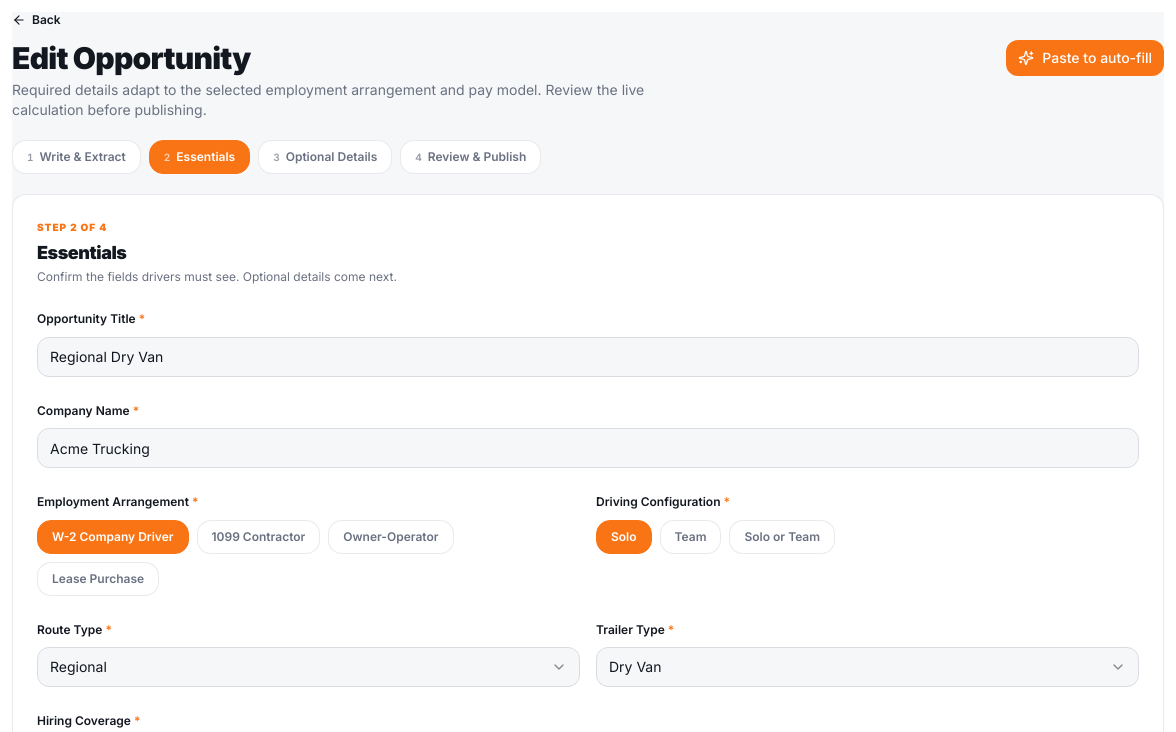
Test: CF-1C-B 11) review preview shows structured criteria only when set › 11c) renders only the declared subset
Click the tab "4Review & Publish": (471, 157) left=400, top=140, right=541, bottom=174
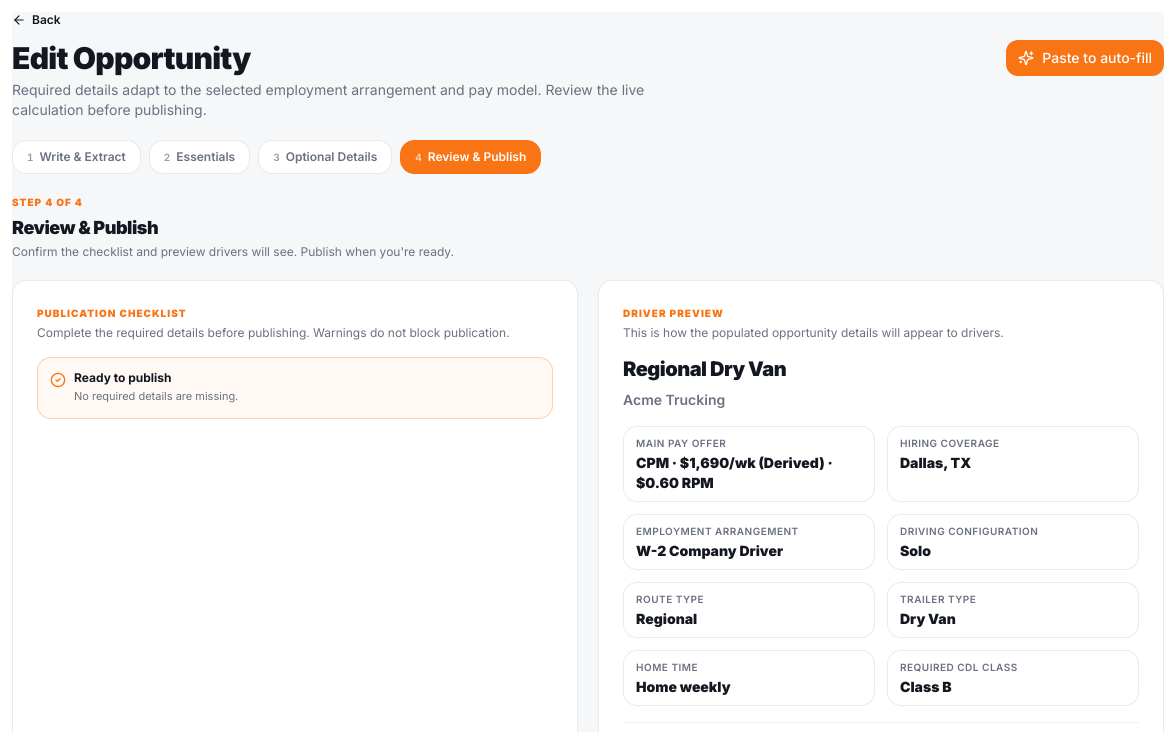
Result: the text "Class B" is shown at left=900, top=678, right=952, bottom=695
